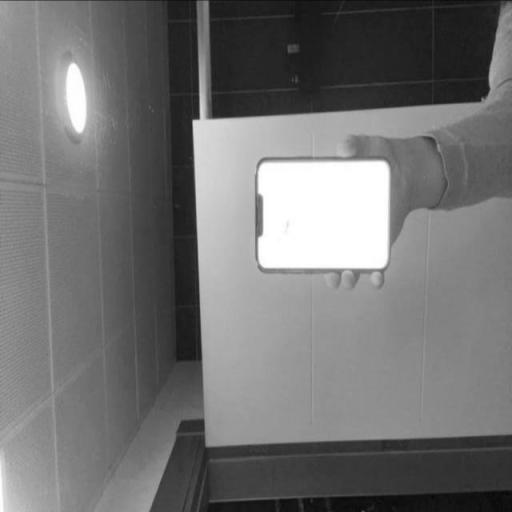phone: (255, 157, 390, 271)
